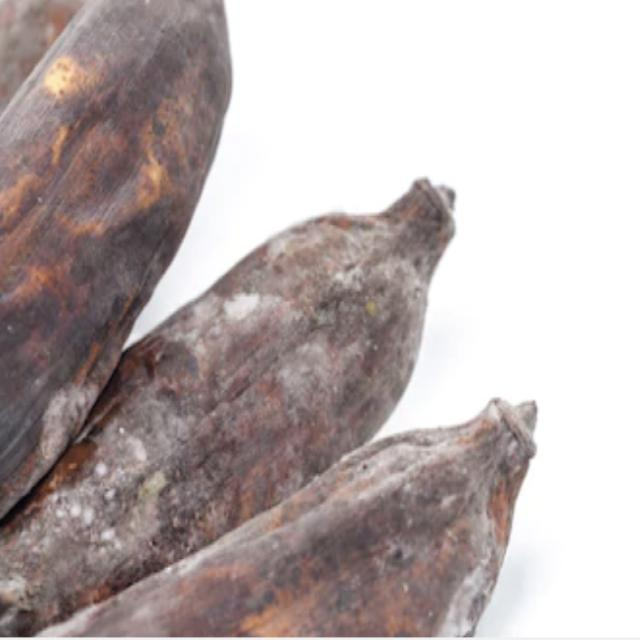banana: (0, 180, 455, 636), (0, 0, 230, 517), (46, 400, 537, 637)
